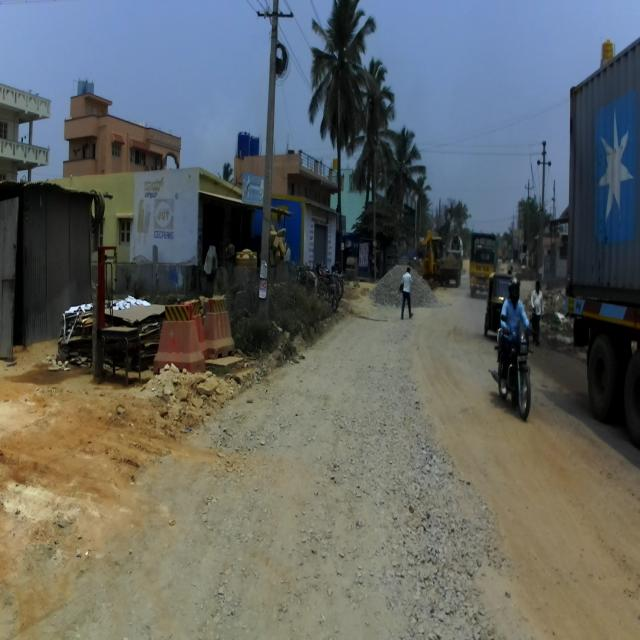electric pole ahead at: (254, 0, 294, 318)
motorcycle ahead at: (489, 312, 539, 418)
truck ahead at: (566, 34, 640, 444)
